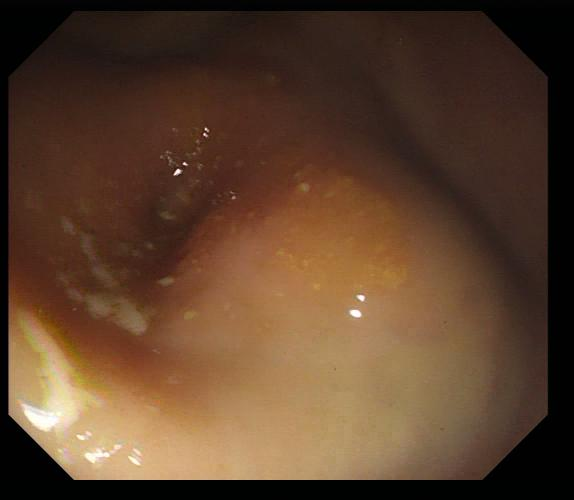polyp: (398, 147, 519, 322), (151, 196, 248, 294), (124, 53, 219, 99)
